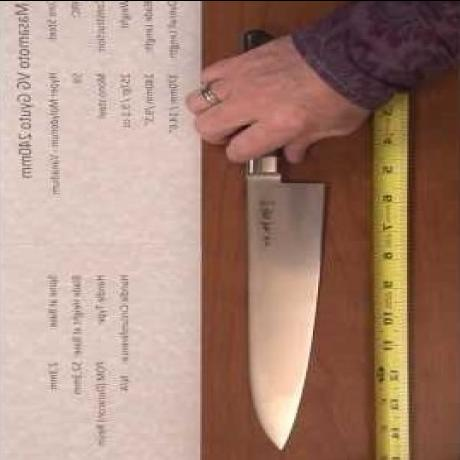1: (178, 0, 459, 162)
weapon: (232, 29, 332, 451)
